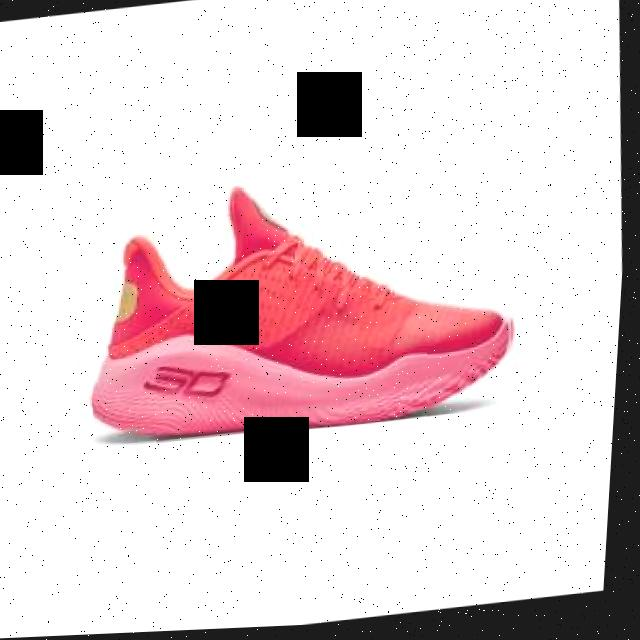shoe: (82, 162, 533, 456)
